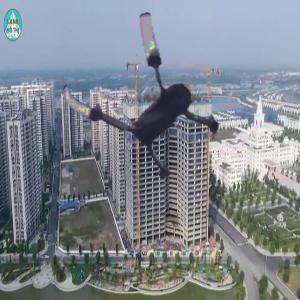drone: (61, 7, 248, 194)
